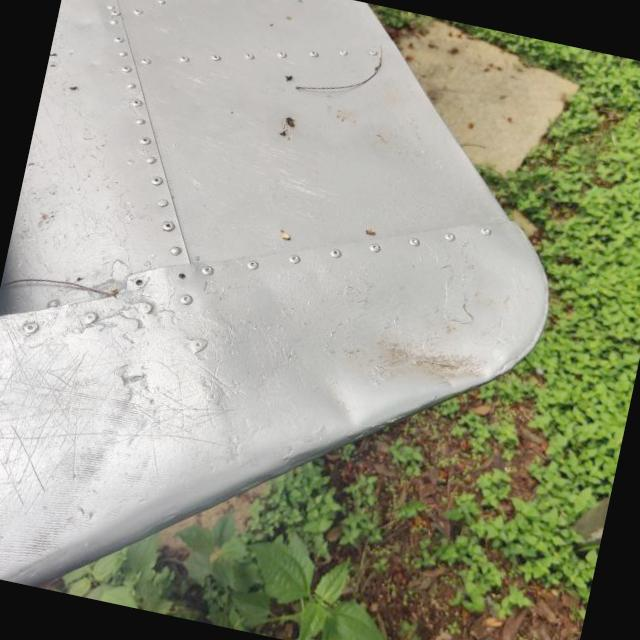dent: (296, 354, 390, 445)
